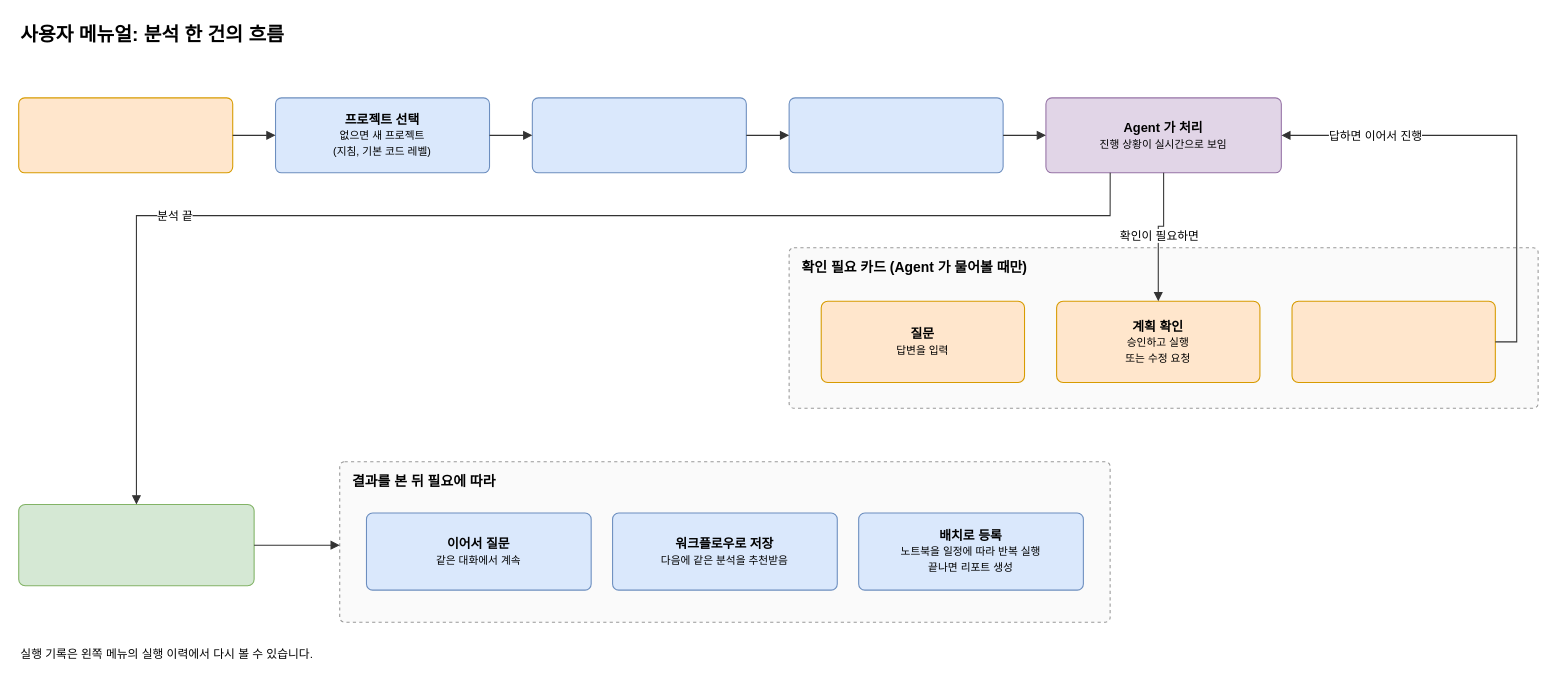
Image size: 1557x683. Some labels were removed from this diagram. Each missing label, with the centre of its shape:
결과 확인 답변, 표와 그림, 노트북 보기, JupyterLab에서 열기: the point at 136,544
로그인 사내 SSO: the point at 125,135
분석 요청 입력 이미지 첨부 가능 Enter 전송: the point at 895,135
새 대화 모델, 코드 레벨 선택: the point at 638,135
코드 실행 승인 실행 또는 거절 코드를 직접 고칠 수 있음: the point at 1393,341
